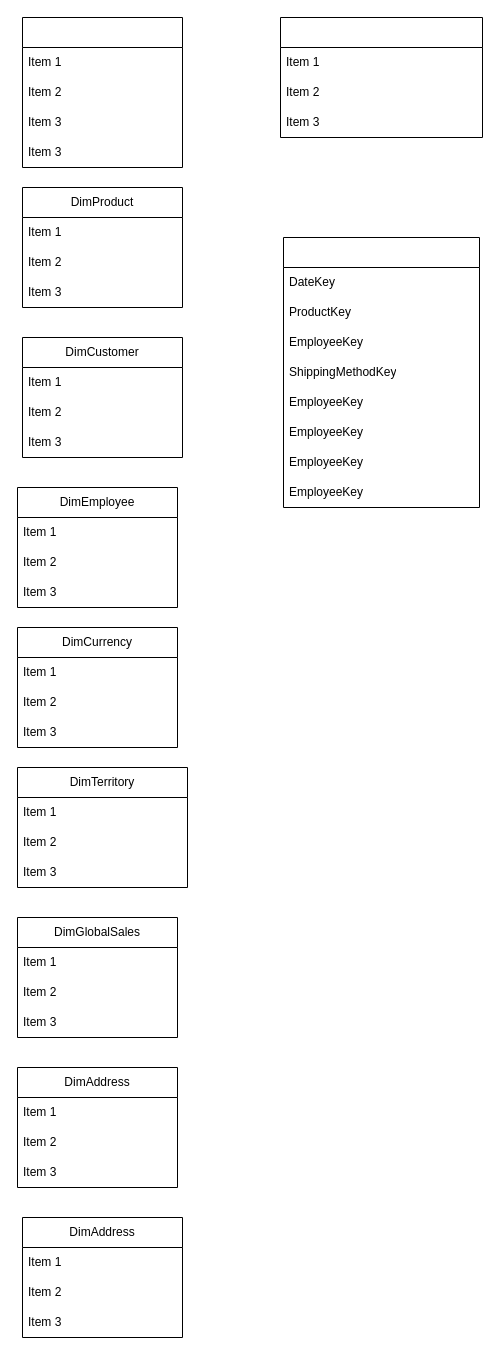
The diagram is 500 pixels wide and 1355 high, and some of its shapes have lost their labels. The shapes that lost their labels are listed below. From the top down, each one's box as (x1, y1, x2, y2) in pixels, then its label:
(22, 16, 182, 168): DimDate
(280, 16, 482, 138): FactCurrencyRate
(282, 236, 480, 508): FactSales
